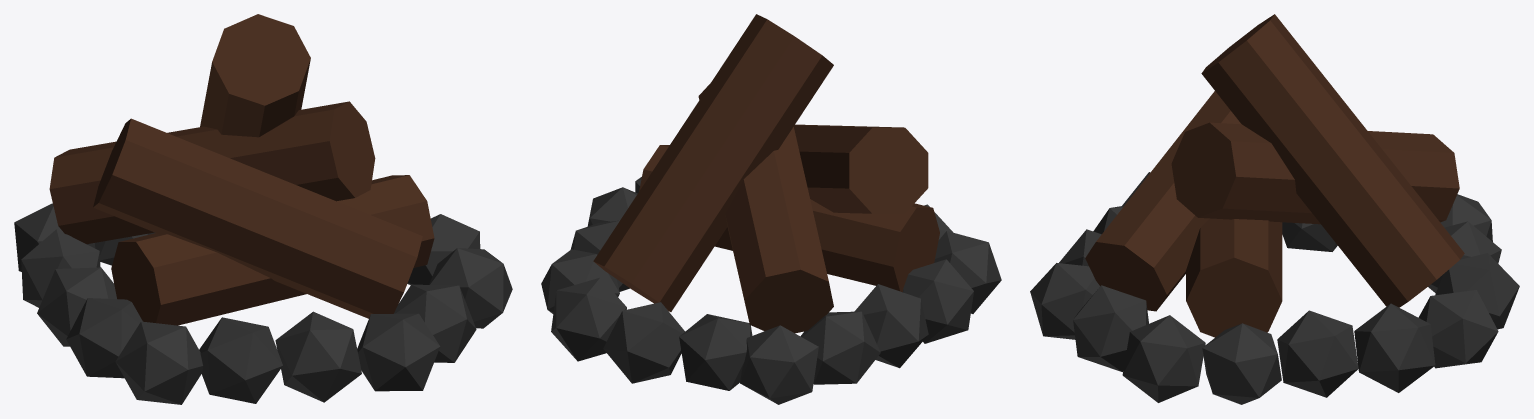
File: Campfire.fbx
3 renders of one model, left to right at view 1: azimuth 30°, elevation 25°; view 2: azimuth 150°, elevation 25°; view 3: azimuth 270°, elevation 25°, orthographic. The views are drawn at different scales.
Parts seen in each view (by area): view 1: Log.001, Log.002, Log.003, Log.000, Stone.004, Stone.002, Stone.003, Stone.005, Stone.001, Stone.007, Stone.006, Stone.000 (+4 smaller); view 2: Log.000, Log.002, Log.001, Log.003, Stone.012, Stone.014, Stone.011, Stone.013, Stone.015, Stone.000, Stone.001, Stone.002 (+3 smaller); view 3: Log.000, Log.002, Log.001, Log.003, Stone.007, Stone.009, Stone.010, Stone.008, Stone.011, Stone.006, Stone.005, Stone.012 (+4 smaller).
Boxes of the visible parts, x1,y1,x2,y2 form: Log.001: (93, 118, 422, 318); Log.002: (49, 101, 375, 244); Log.003: (111, 175, 434, 325); Log.000: (200, 14, 310, 137); Stone.004: (275, 311, 361, 402); Stone.002: (115, 321, 202, 404); Stone.003: (199, 317, 282, 403); Stone.005: (357, 313, 440, 391); Stone.001: (66, 298, 142, 378); Stone.007: (429, 248, 512, 328); Stone.006: (394, 284, 476, 362); Stone.000: (37, 267, 116, 346); Log.000: (593, 14, 833, 311); Log.002: (698, 84, 833, 333); Log.001: (793, 124, 928, 213); Log.003: (639, 145, 939, 291); Stone.012: (603, 302, 684, 383); Stone.014: (740, 325, 818, 404); Stone.011: (551, 277, 626, 361); Stone.013: (679, 314, 752, 390); Stone.015: (800, 311, 880, 384); Stone.000: (854, 284, 928, 368); Stone.001: (902, 259, 973, 343); Stone.002: (934, 231, 1001, 313); Log.000: (1201, 14, 1464, 307); Log.002: (1171, 122, 1459, 224); Log.001: (1085, 91, 1241, 311); Log.003: (1186, 218, 1282, 337); Stone.007: (1122, 315, 1205, 402); Stone.009: (1277, 310, 1358, 397); Stone.010: (1354, 303, 1435, 392); Stone.008: (1202, 323, 1281, 404); Stone.011: (1418, 290, 1498, 368); Stone.006: (1073, 285, 1148, 371); Stone.005: (1030, 263, 1099, 339); Stone.012: (1435, 253, 1519, 329).
Bounding box in the file's own units: 369 × 276 × 401.
